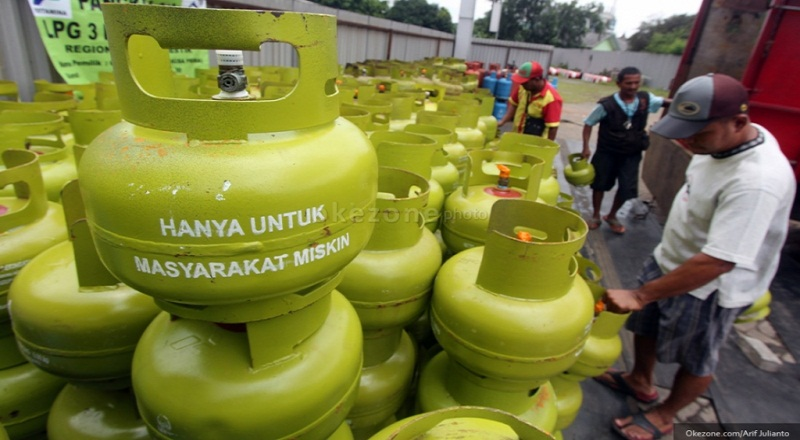gas_ijo: (78, 3, 379, 319), (134, 290, 363, 440), (10, 180, 162, 386), (434, 201, 595, 385), (335, 166, 439, 325), (1, 121, 78, 302), (444, 149, 546, 253), (330, 325, 416, 425), (46, 377, 150, 440), (473, 136, 560, 203), (374, 120, 456, 179), (419, 89, 498, 149), (344, 77, 411, 126), (558, 148, 598, 189)
